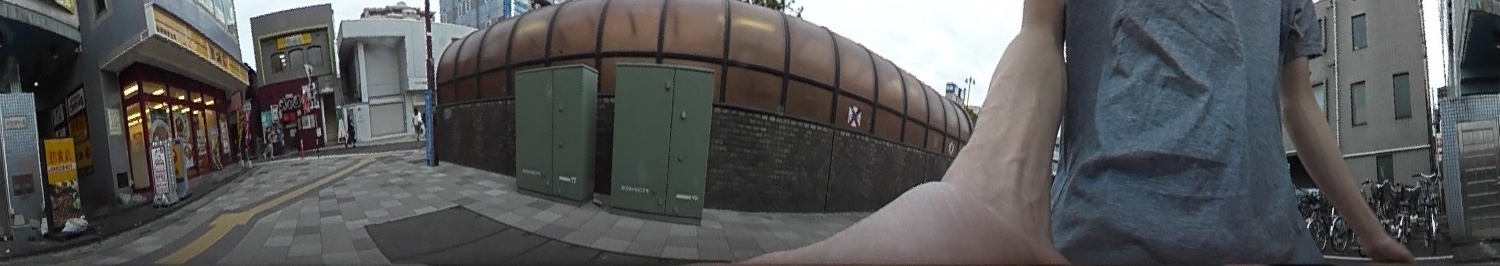difficult_person: (344, 110, 358, 149), (410, 104, 423, 144), (261, 124, 274, 159)
